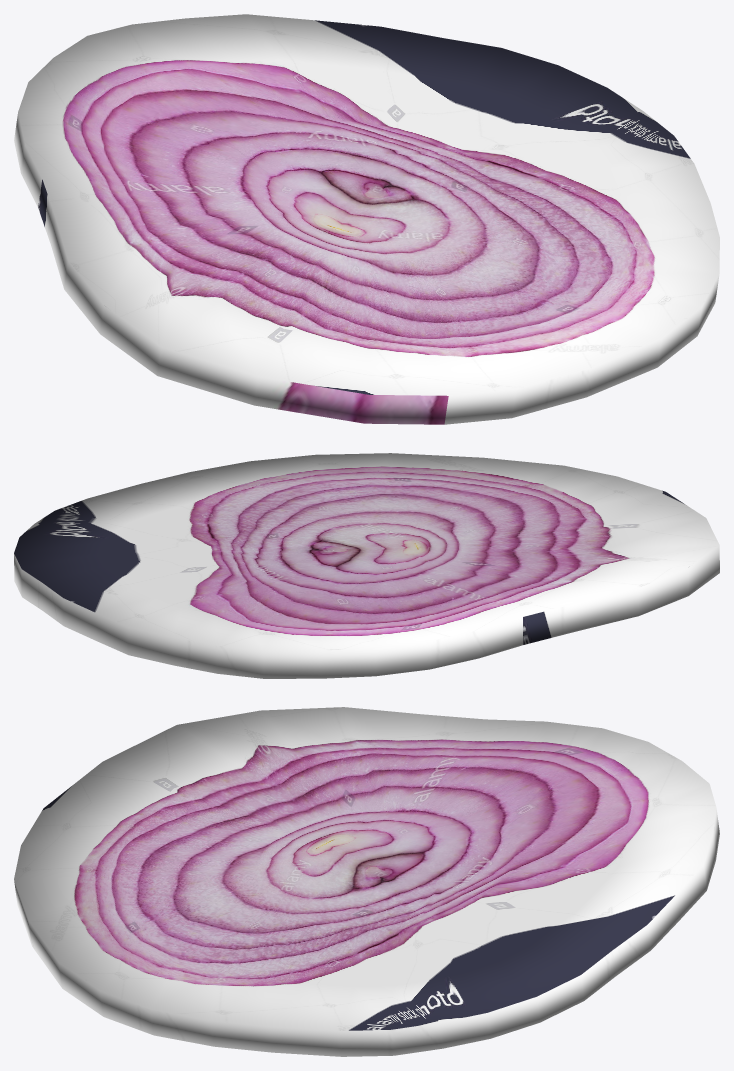
Rendered from onion.fbx.
The picture shows the model from 3 angles, top to bottom: view 1: azimuth 30°, elevation 25°; view 2: azimuth 150°, elevation 25°; view 3: azimuth 270°, elevation 25°; orthographic projection. The views are drawn at different scales.
Parts seen in each view (by area): view 1: Tomatoes.001; view 2: Tomatoes.001; view 3: Tomatoes.001.
Boxes of the visible parts, x1,y1,x2,y2 form: Tomatoes.001: [14, 14, 719, 424]; Tomatoes.001: [14, 453, 719, 678]; Tomatoes.001: [14, 707, 719, 1056].
Bounding box in the file's own units: 8.12 × 1.49 × 8.51.
